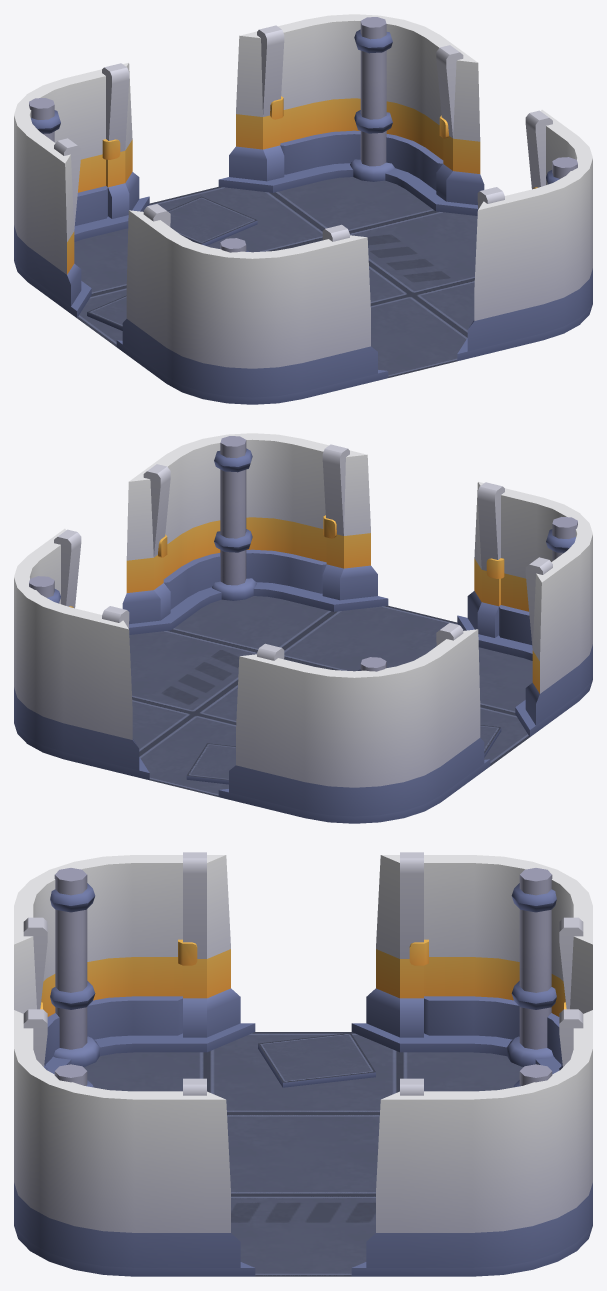
File: kenney-space-room-small.glb
3 renders of one model, top to bottom at view 1: azimuth 30°, elevation 25°; view 2: azimuth 150°, elevation 25°; view 3: azimuth 270°, elevation 25°, orthographic. The views are drawn at different scales.
Visible parts, largest first — view 1: room-small; view 2: room-small; view 3: room-small.
Part boxes in pixels (<box>): room-small: <box>14,14,592,404</box>; room-small: <box>14,433,592,823</box>; room-small: <box>14,852,592,1276</box>.
Bounding box in the file's own units: 9 × 3.19 × 9.
1 material, 1 textured.
